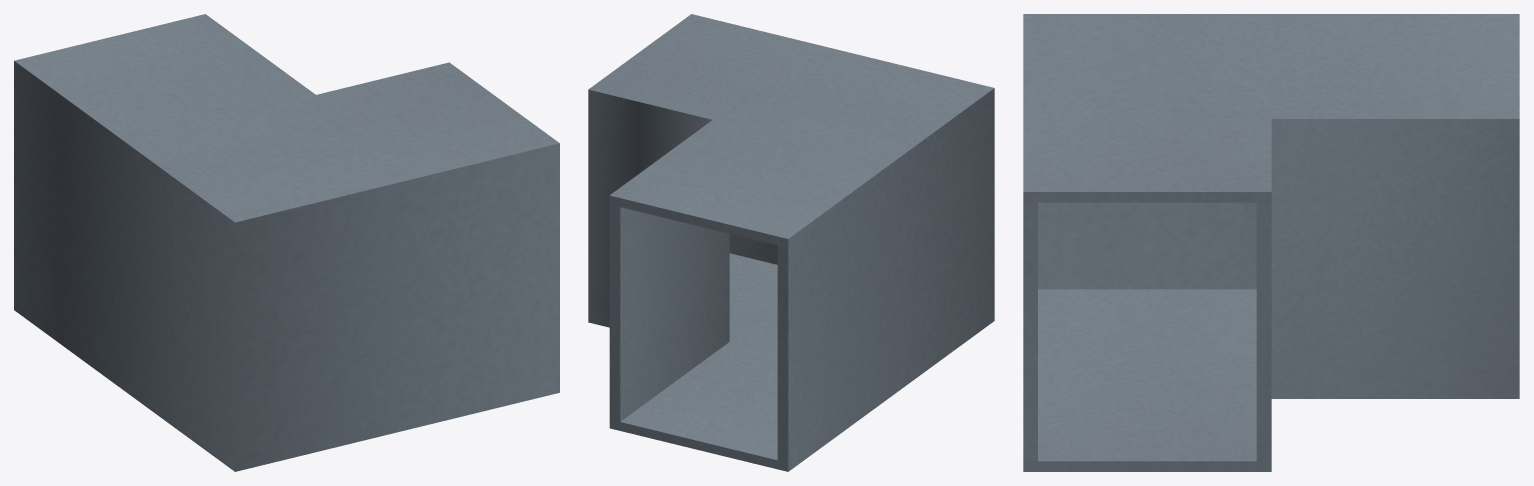
The model's file is hvac_turn.fbx.
The picture shows the model from 3 angles, left to right: view 1: azimuth 30°, elevation 25°; view 2: azimuth 150°, elevation 25°; view 3: azimuth 270°, elevation 25°; orthographic projection. The views are drawn at different scales.
Visible parts, largest first — view 1: hvac_turn; view 2: hvac_turn; view 3: hvac_turn.
Boxes of the visible parts, <box> form: hvac_turn: <box>14,14,559,471</box>; hvac_turn: <box>588,14,994,471</box>; hvac_turn: <box>1023,14,1519,471</box>.
Bounding box in the file's own units: 339 × 249 × 400.
Materials: 1 (1 with a texture image).
